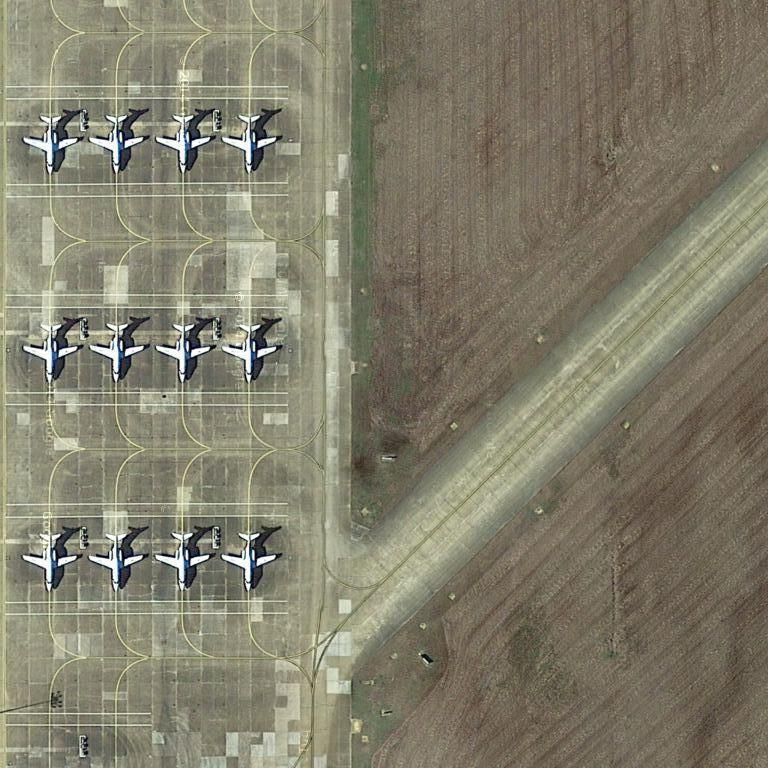plane: (152, 111, 212, 178), (87, 319, 146, 385), (23, 111, 80, 177), (222, 526, 277, 594), (21, 530, 79, 594), (156, 530, 213, 595), (24, 318, 78, 386), (156, 319, 212, 384), (92, 527, 144, 595), (224, 111, 278, 176), (91, 111, 145, 176), (226, 322, 277, 384)
